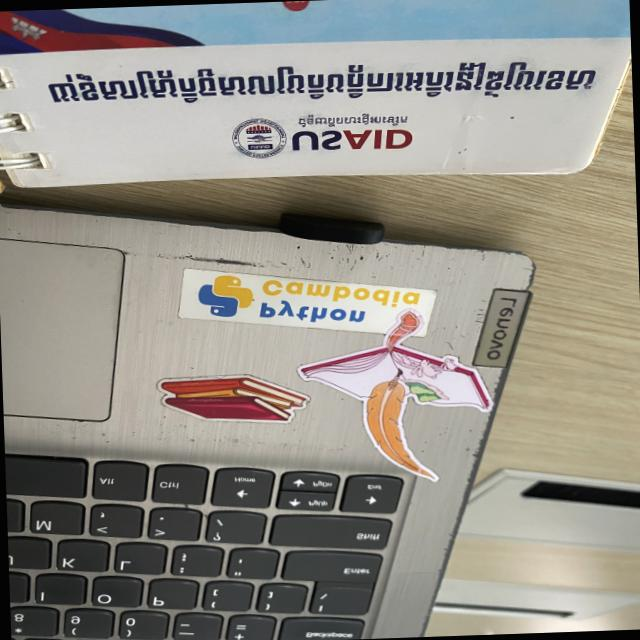Yolov11kh: (30, 46, 604, 114), (293, 109, 412, 129)
